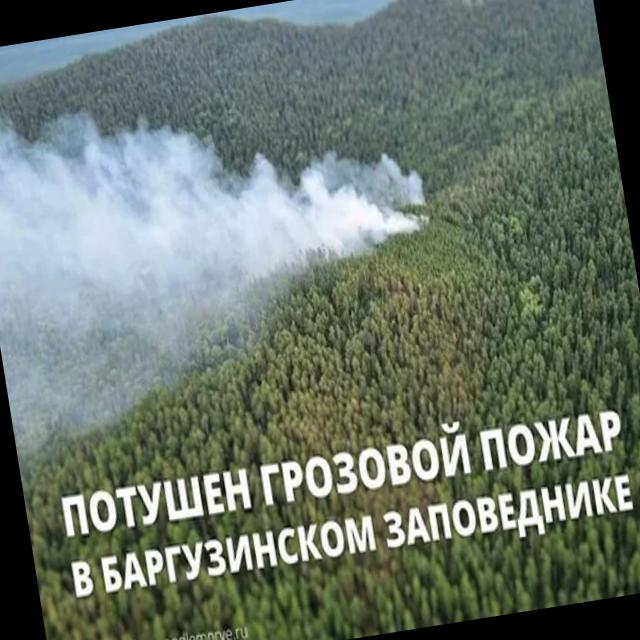Smoke: (0, 92, 440, 319)
